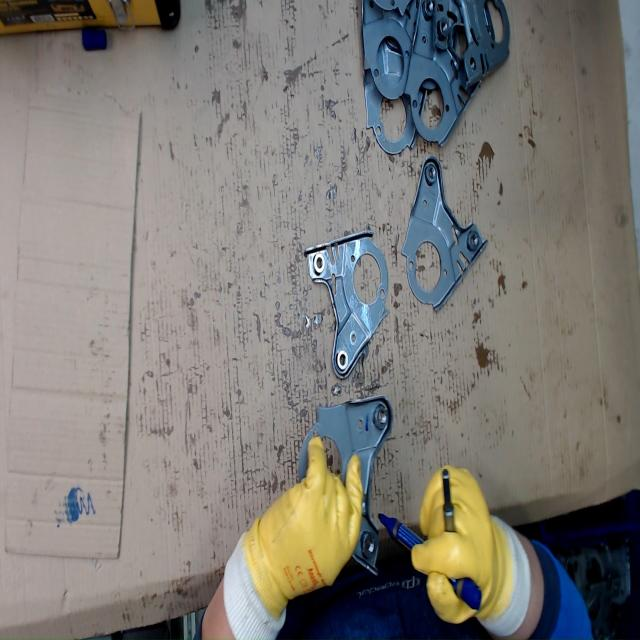hands: (248, 436, 365, 593), (410, 463, 515, 628)
